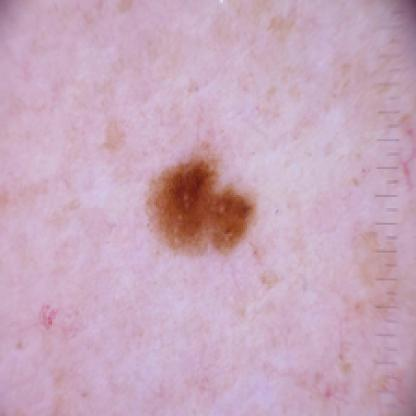benign: (148, 141, 252, 251)
